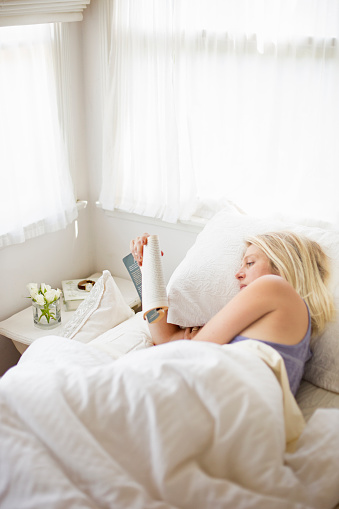deitado: (9, 213, 339, 435)
